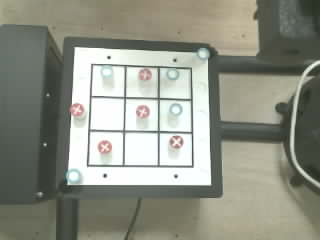blue circle: (66, 169, 81, 183), (169, 103, 182, 115), (166, 68, 179, 79), (197, 48, 210, 59), (101, 65, 112, 78)
board: (66, 46, 213, 186)
cells: (89, 132, 122, 164), (125, 133, 157, 165), (160, 133, 192, 165), (125, 99, 157, 130), (91, 98, 123, 129), (92, 65, 124, 96), (160, 100, 191, 131), (126, 67, 157, 97), (160, 68, 190, 98)
grid: (87, 64, 193, 167)
red cross: (69, 103, 84, 116), (136, 105, 149, 118), (98, 140, 111, 153), (170, 136, 183, 148), (139, 68, 151, 79)
